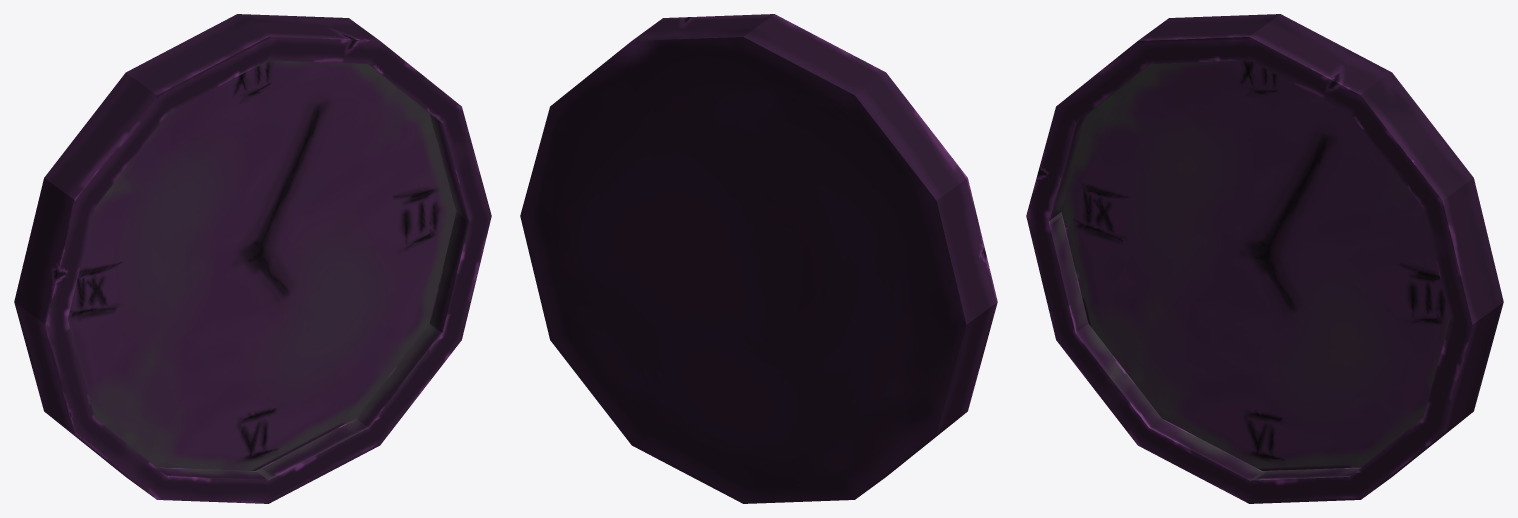
File: lwrAge.fbx
3 renders of one model, left to right at view 1: azimuth 30°, elevation 25°; view 2: azimuth 150°, elevation 25°; view 3: azimuth 330°, elevation 25°, orthographic.
Visible parts, largest first — view 1: Sphere; view 2: Sphere; view 3: Sphere.
Boxes of the visible parts, x1,y1,x2,y2 form: Sphere: (14, 14, 491, 503); Sphere: (520, 14, 997, 503); Sphere: (1026, 14, 1503, 503).
Bounding box in the file's own units: 199 × 199 × 24.11.
1 material, 1 textured.
